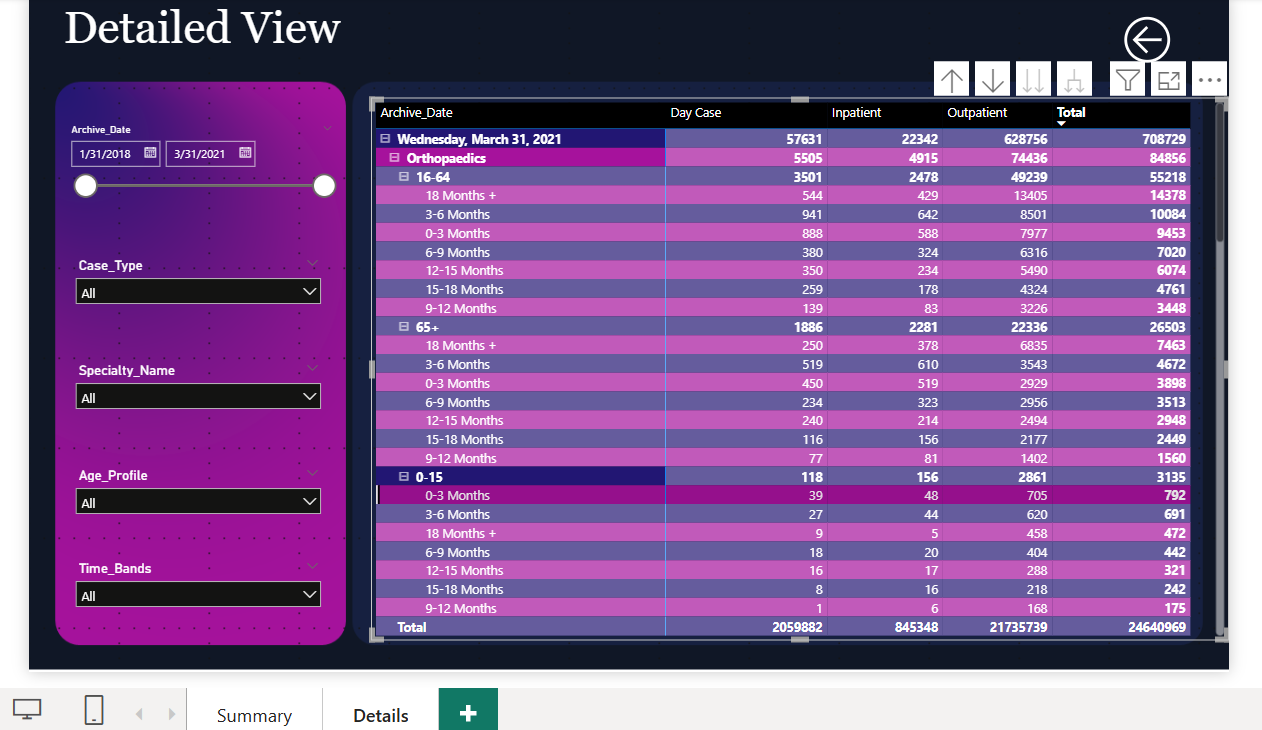

The dashboard page shown, as its layout file describes it:
{"tool":"powerbi","page":{"name":"Details","canvas":[1280,720],"ordinal":1},"visuals":[{"type":"slicer","fields":{"Values":["All_Data.Archive_Date"]},"box":[32,129.6,304,88],"z":0},{"type":"slicer","fields":{"Values":["All_Data.Case_Type"]},"box":[40,272,281.6,88],"z":1000},{"type":"slicer","fields":{"Values":["All_Data.Specialty_Name"]},"box":[40,384,281.6,78.4],"z":2000},{"type":"textbox","box":[32,0,332.8,88],"z":3000},{"type":"slicer","fields":{"Values":["All_Data.Age_Profile"]},"box":[40,496,281.6,70.4],"z":4000},{"type":"slicer","fields":{"Values":["All_Data.Time_Bands"]},"box":[40,595.2,281.6,70.4],"z":5000},{"type":"pivotTable","fields":{"Rows":["All_Data.Archive_Date","All_Data.Specialty_Name","All_Data.Age_Profile","All_Data.Time_Bands"],"Columns":["All_Data.Case_Type"],"Values":["Sum(All_Data.Total)"]},"box":[364.8,107.2,915.2,579.2],"z":6000},{"type":"actionButton","box":[1161.6,14.4,70.4,62.4],"z":6001}]}

Visuals, with their boxes on the page's 1280x720 design canvas (x1, y1, x2, y2). These are canvas units, not pixel positions in the 1262x730 screenshot, which may show the page scaled, cropped or inside an application window:
slicer - All_Data.Archive_Date: {"left": 32, "top": 130, "right": 336, "bottom": 218}
slicer - All_Data.Case_Type: {"left": 40, "top": 272, "right": 322, "bottom": 360}
slicer - All_Data.Specialty_Name: {"left": 40, "top": 384, "right": 322, "bottom": 462}
textbox: {"left": 32, "top": 0, "right": 365, "bottom": 88}
slicer - All_Data.Age_Profile: {"left": 40, "top": 496, "right": 322, "bottom": 566}
slicer - All_Data.Time_Bands: {"left": 40, "top": 595, "right": 322, "bottom": 666}
pivotTable - All_Data.Archive_Date x All_Data.Specialty_Name: {"left": 365, "top": 107, "right": 1280, "bottom": 686}
actionButton: {"left": 1162, "top": 14, "right": 1232, "bottom": 77}
